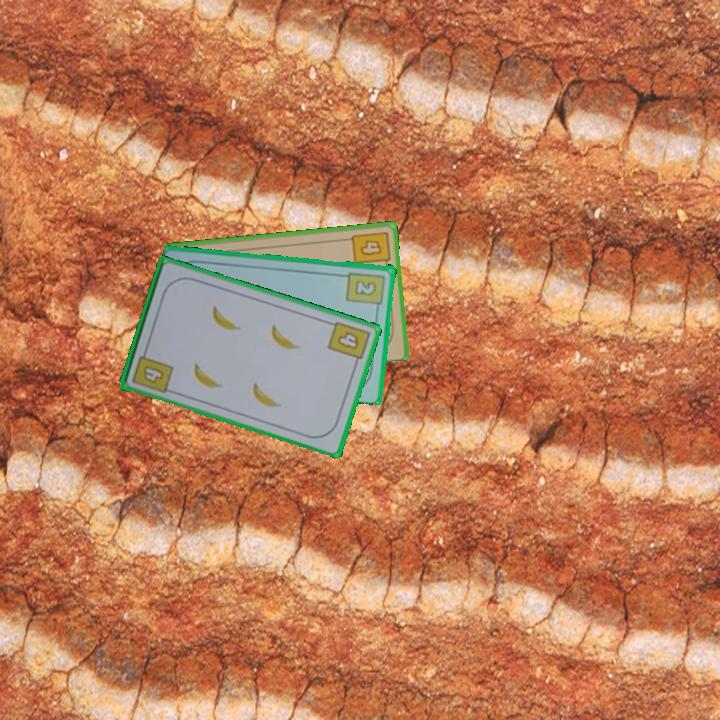2b: (344, 268, 388, 313)
4b: (324, 317, 373, 369), (129, 345, 176, 396), (348, 228, 393, 270)
